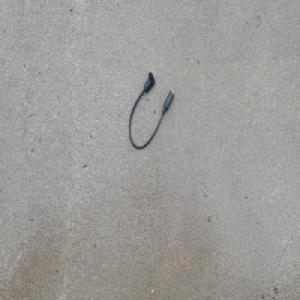Wire: (127, 70, 175, 151)
